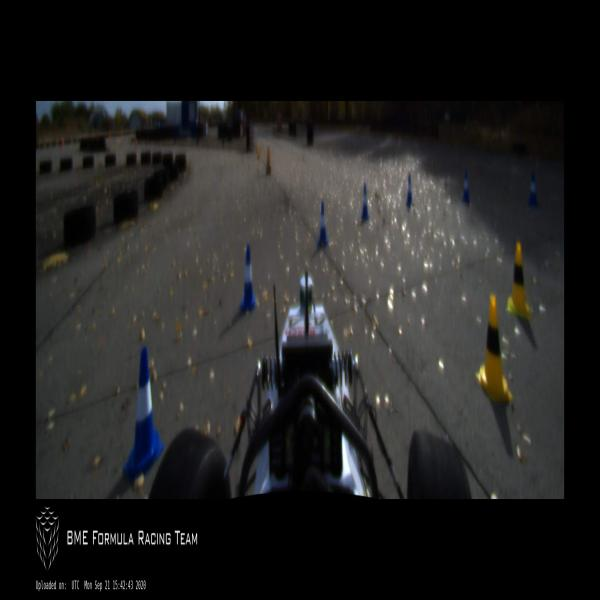blue_cone: (124, 345, 164, 483), (239, 247, 256, 310), (318, 202, 327, 245), (528, 172, 538, 209), (360, 185, 369, 219), (462, 172, 470, 200), (406, 176, 412, 205)
yellow_cone: (476, 294, 513, 400), (507, 244, 528, 318)
